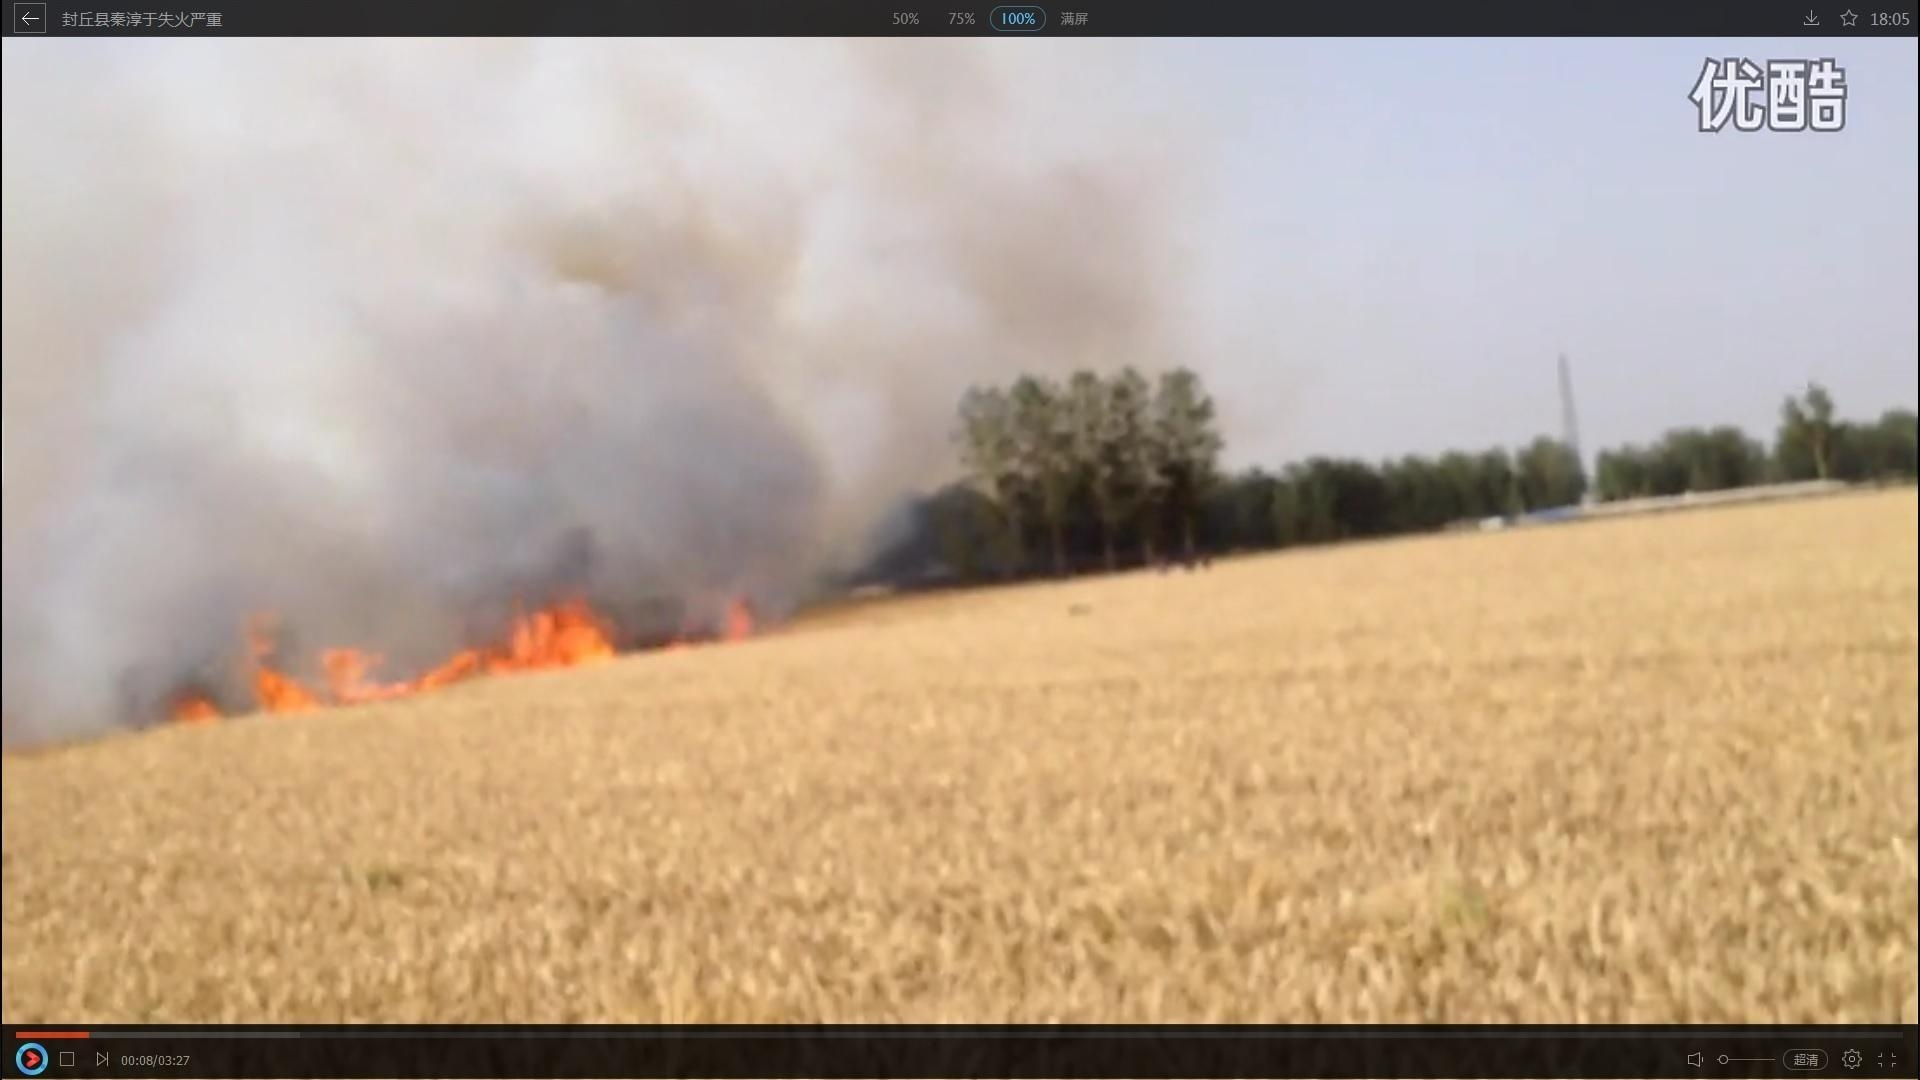fire: (144, 596, 724, 711)
